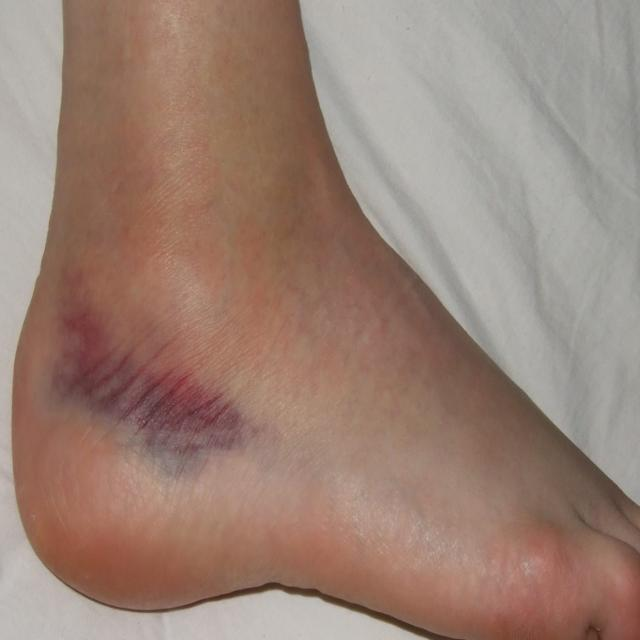DTI: (42, 268, 262, 482)
